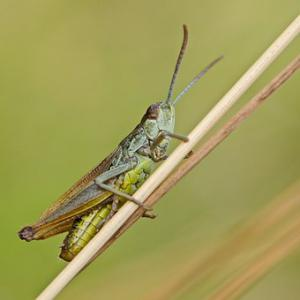locust: (15, 31, 246, 298)
